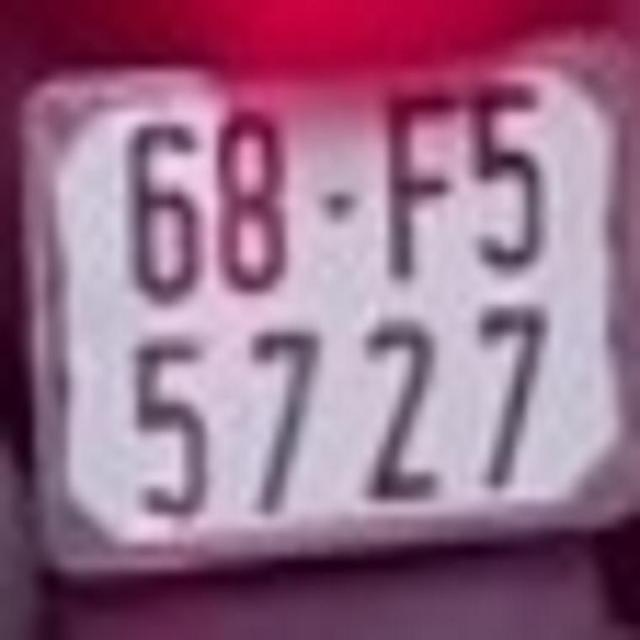2: (358, 308, 444, 507)
5: (126, 326, 212, 524), (466, 74, 546, 273)
6: (126, 105, 204, 305)
7: (244, 314, 325, 513), (474, 297, 554, 490)
8: (210, 98, 289, 297)
F: (383, 80, 461, 284)
